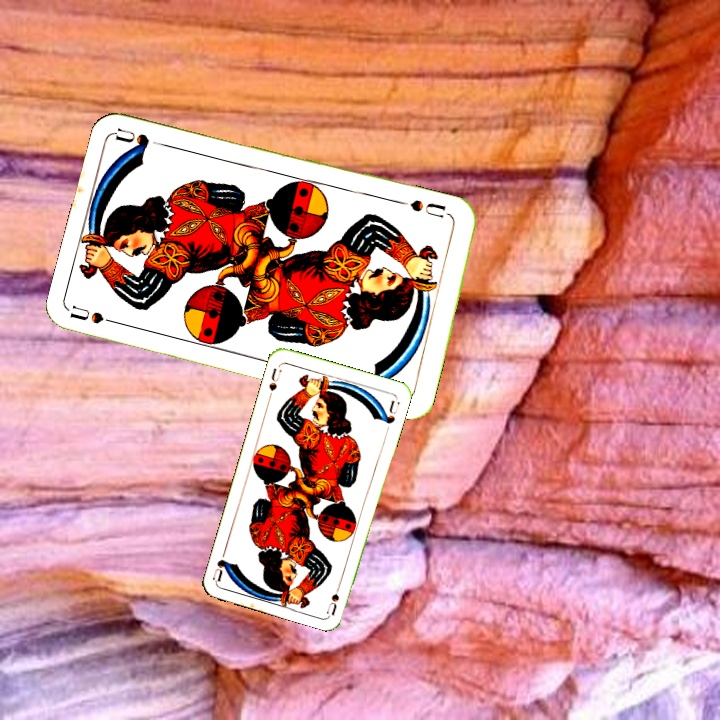SU: (68, 302, 127, 329), (397, 195, 455, 221), (323, 576, 344, 616), (264, 361, 284, 401)
